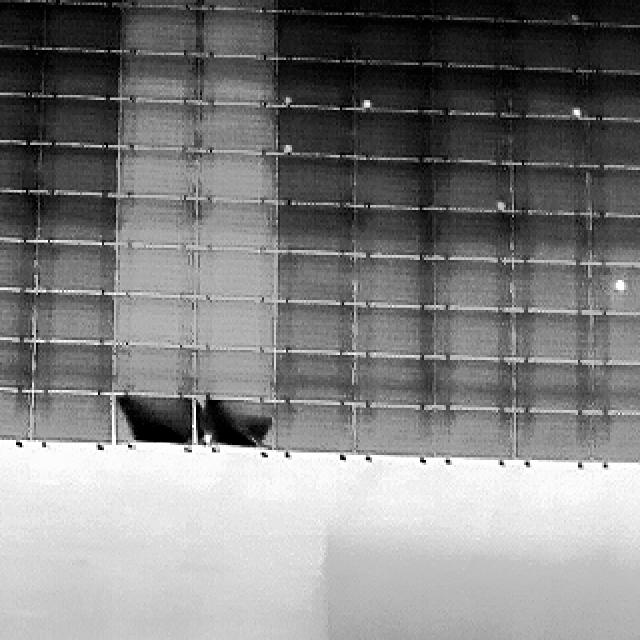Hotspots: (358, 88, 380, 116), (488, 193, 512, 218), (279, 85, 300, 108), (566, 96, 586, 118), (276, 140, 299, 159), (614, 275, 628, 294)
PV-modules: (30, 391, 119, 444), (354, 402, 437, 457), (266, 400, 352, 453), (32, 338, 116, 392), (427, 164, 512, 216), (354, 357, 438, 409), (429, 64, 513, 116), (429, 21, 516, 71), (33, 293, 116, 345), (431, 257, 515, 308), (195, 300, 277, 352), (354, 307, 434, 360), (276, 304, 356, 357), (436, 406, 516, 459), (275, 351, 355, 404), (429, 359, 512, 410), (34, 244, 115, 296), (431, 114, 512, 166), (354, 257, 435, 309), (193, 346, 274, 398), (510, 410, 591, 462), (428, 210, 512, 260), (431, 310, 513, 361), (274, 202, 356, 253), (112, 344, 192, 396), (35, 144, 116, 195), (113, 293, 192, 345), (356, 110, 435, 162), (511, 115, 593, 165), (112, 396, 194, 446), (513, 309, 590, 362), (114, 247, 194, 298), (510, 212, 590, 263), (270, 59, 355, 107), (116, 145, 194, 197), (356, 206, 434, 258), (276, 252, 354, 304), (270, 15, 356, 62), (194, 248, 273, 299), (116, 194, 195, 245), (510, 262, 589, 313), (356, 17, 435, 68), (356, 160, 433, 212), (275, 108, 355, 158), (358, 61, 436, 112), (35, 195, 114, 245), (37, 100, 117, 149), (118, 53, 196, 103), (193, 151, 269, 202), (40, 3, 119, 52), (39, 51, 118, 100), (195, 198, 272, 248), (514, 363, 588, 415), (275, 157, 355, 205), (510, 168, 588, 217), (196, 105, 274, 154), (198, 398, 274, 448), (510, 67, 584, 118), (118, 5, 195, 54), (120, 100, 196, 149), (513, 20, 585, 70), (202, 57, 276, 105), (200, 8, 272, 56), (588, 408, 640, 462), (583, 70, 640, 119), (583, 26, 640, 74), (588, 365, 640, 416), (591, 216, 640, 268), (590, 315, 640, 365), (590, 168, 640, 217), (590, 118, 640, 167), (0, 0, 46, 48), (0, 45, 42, 95), (0, 95, 42, 145), (0, 188, 40, 240), (592, 264, 634, 312), (0, 138, 40, 188), (0, 238, 34, 292), (432, 0, 512, 22), (0, 338, 32, 390), (0, 285, 32, 337), (0, 388, 30, 440), (510, 0, 580, 22), (350, 0, 434, 18), (582, 0, 638, 25), (274, 0, 352, 15), (206, 0, 274, 10), (44, 0, 122, 8), (122, 0, 196, 5), (0, 0, 48, 5)
